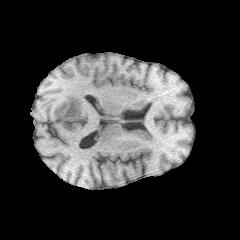glioma: (41, 95, 83, 120)
